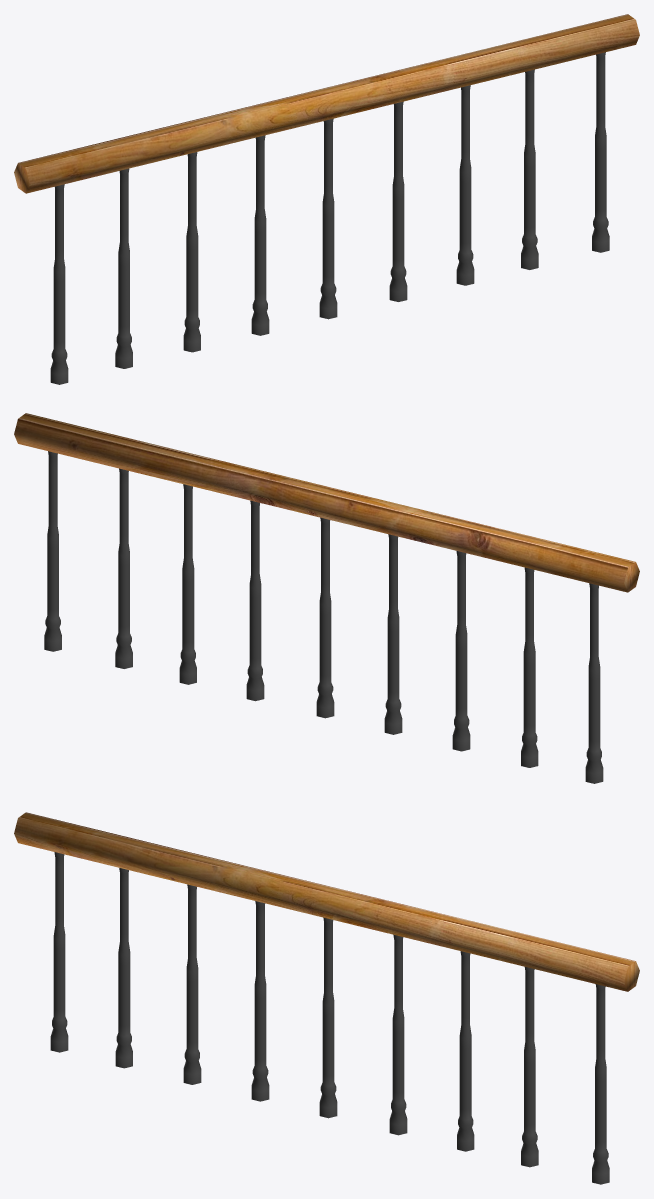
File: railStraight.fbx
The picture shows the model from 3 angles, top to bottom: view 1: azimuth 30°, elevation 25°; view 2: azimuth 150°, elevation 25°; view 3: azimuth 330°, elevation 25°; orthographic projection.
Visible parts, largest first — view 1: SupportsStraight_LOD0, RailStraight; view 2: SupportsStraight_LOD0, RailStraight; view 3: SupportsStraight_LOD0, RailStraight.
Boxes of the visible parts, bbox=[...] form: SupportsStraight_LOD0: bbox=[50, 52, 609, 384]; RailStraight: bbox=[14, 14, 639, 193]; SupportsStraight_LOD0: bbox=[44, 451, 603, 783]; RailStraight: bbox=[14, 413, 639, 592]; SupportsStraight_LOD0: bbox=[50, 852, 609, 1184]; RailStraight: bbox=[14, 812, 639, 991].
Size of what is drawn, in the model's own units: 2.5 by 0.8772 by 0.1129.
